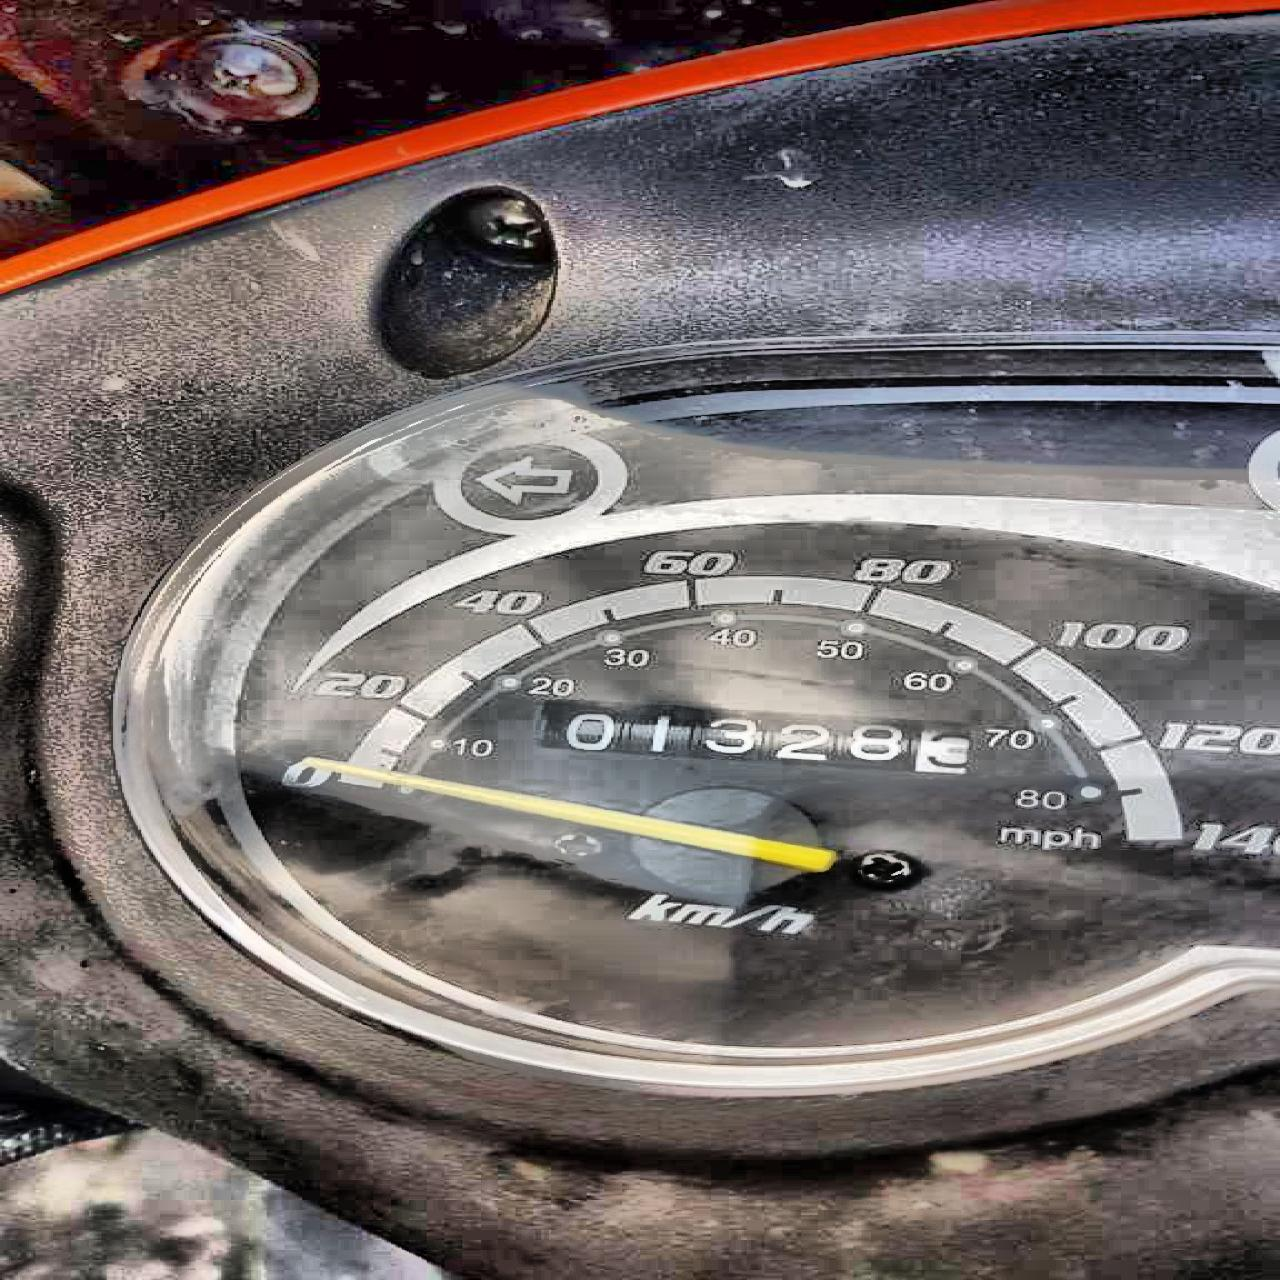0: (563, 708, 615, 753)
1: (638, 710, 680, 754)
2: (769, 720, 831, 761)
3: (700, 712, 758, 755), (918, 728, 973, 770)
8: (843, 720, 905, 762)
odometer: (518, 694, 978, 779)
